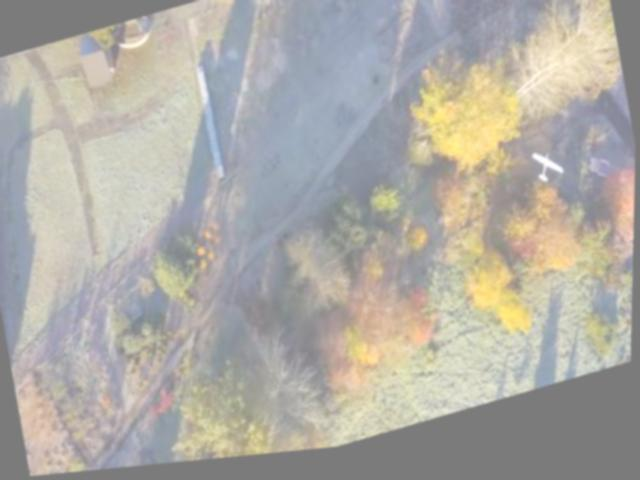uav: (522, 145, 573, 203)
